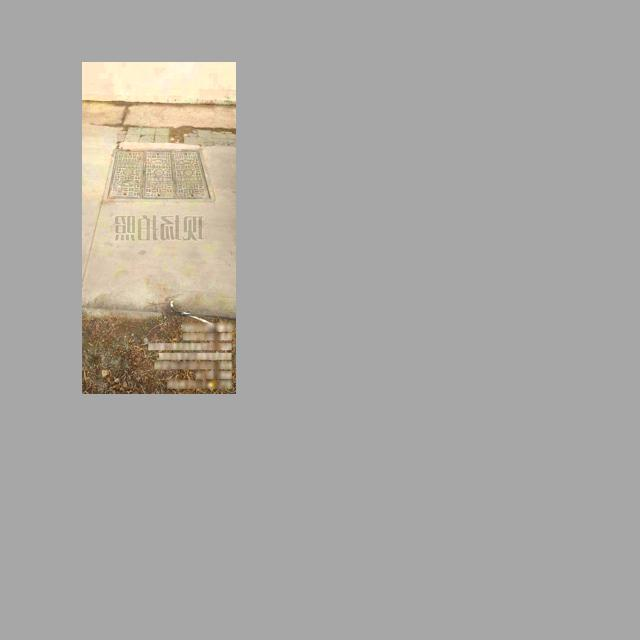good: (104, 148, 216, 202)
